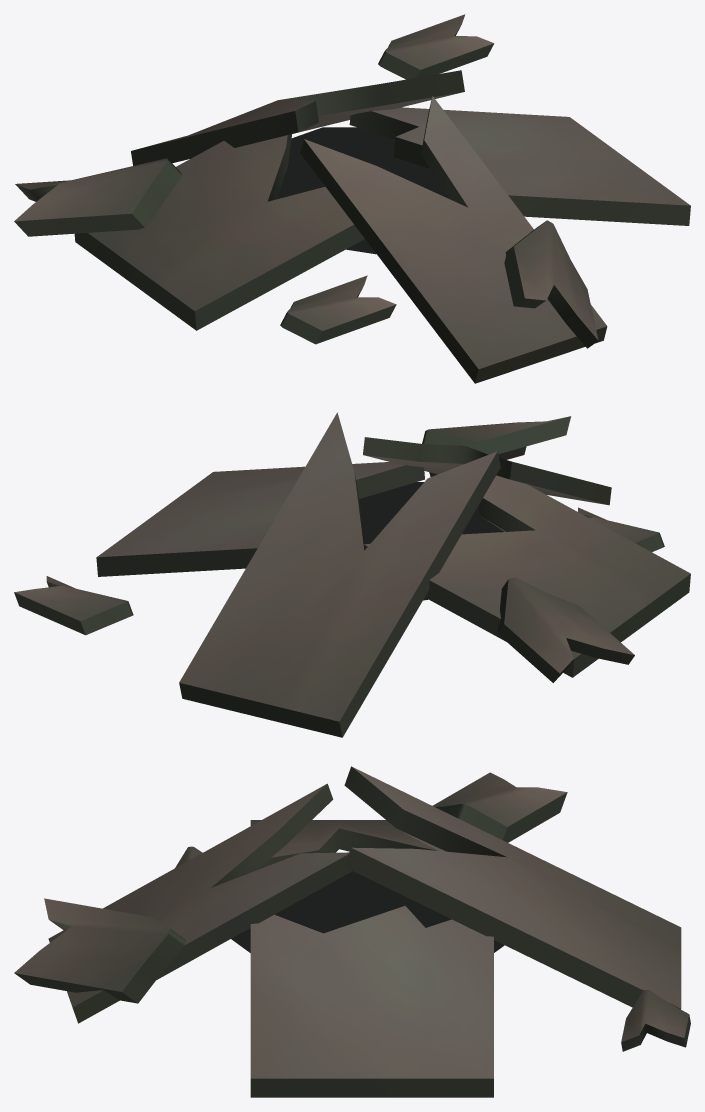
Rendered from hole.fbx.
3 views of the same model, one above another, from view 1: azimuth 30°, elevation 25°; view 2: azimuth 150°, elevation 25°; view 3: azimuth 270°, elevation 25° (orthographic). The views are drawn at different scales.
Visible parts, largest first — view 1: Hole; view 2: Hole; view 3: Hole.
Boxes of the visible parts, box(x1,y1,x2,y2) form: Hole: box(14, 14, 690, 383); Hole: box(14, 412, 690, 737); Hole: box(14, 766, 690, 1097).
Size of the model in its own units: 119 by 36.77 by 125.
